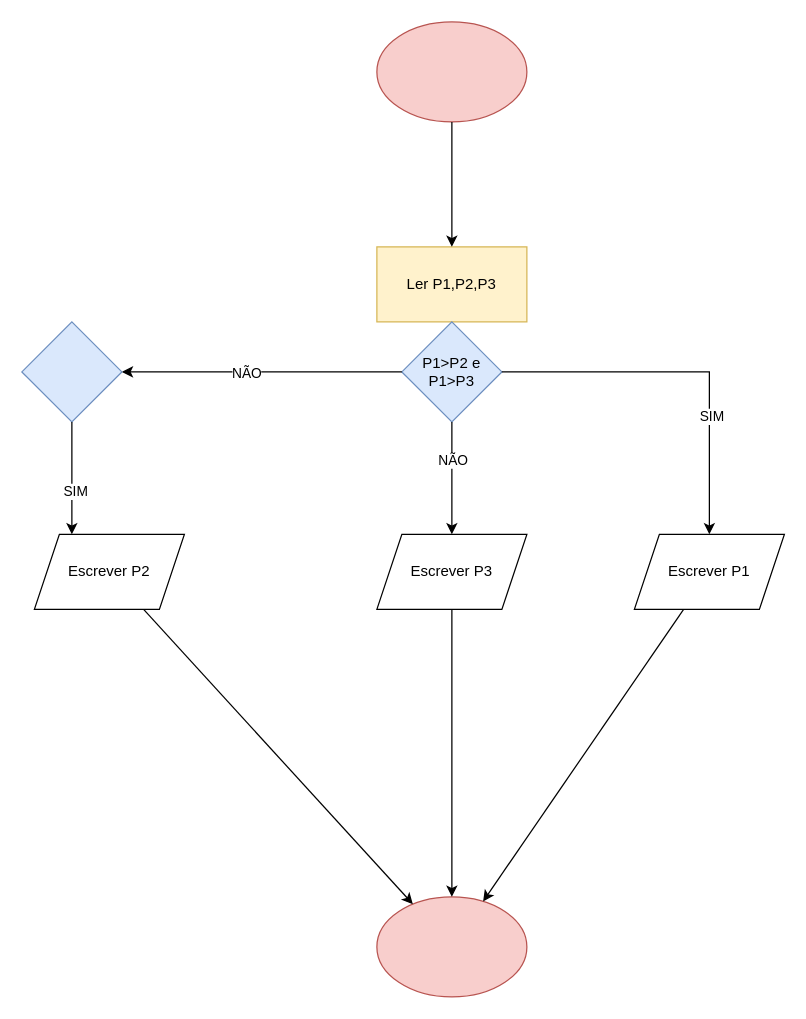
The diagram is 806 pixels wide and 1019 high, and some of its shapes have lost their labels. The box of each missing label's shape, as (x1, y1, x2, y2) in pixels:
Fim: (376, 896, 527, 997)
P2>P3: (21, 321, 122, 422)
